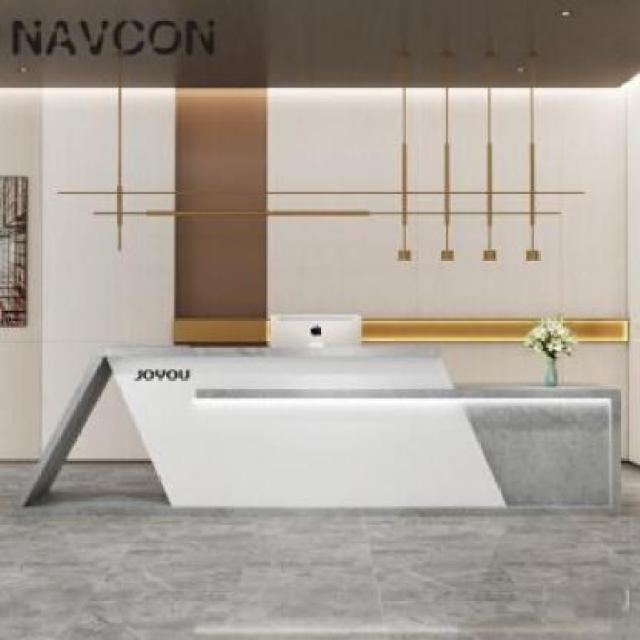frontdesk: (15, 335, 633, 524)
